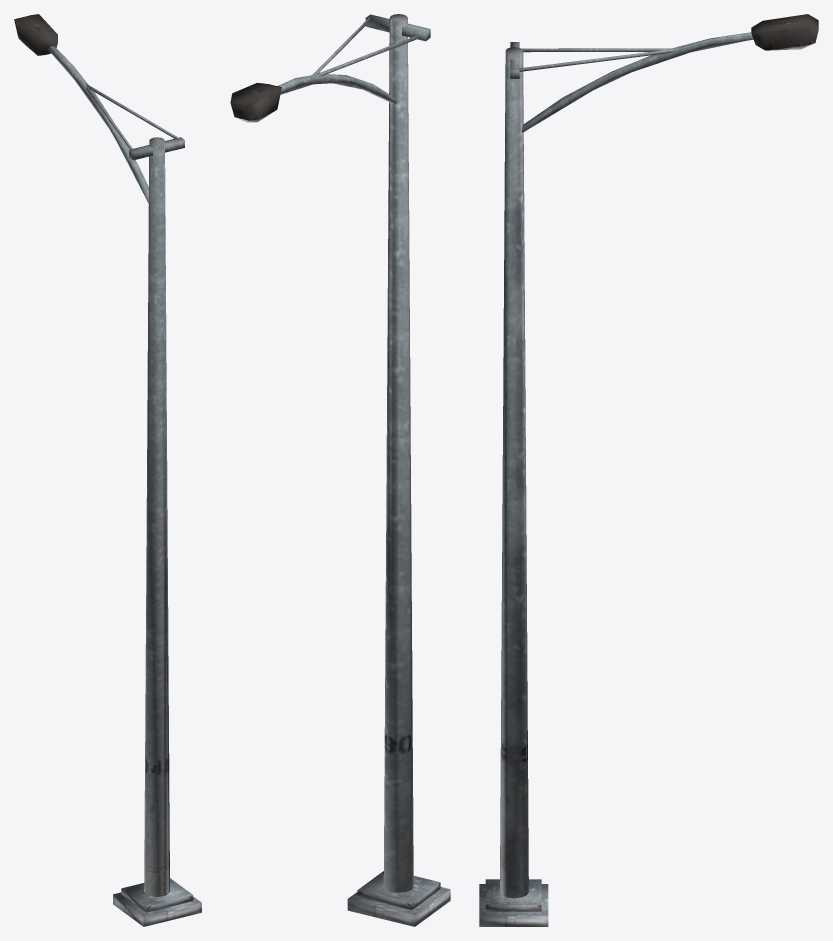
The model's file is streetLight1_1.fbx.
3 views of the same model, side by side, from view 1: azimuth 30°, elevation 25°; view 2: azimuth 150°, elevation 25°; view 3: azimuth 270°, elevation 25° (orthographic). The views are drawn at different scales.
Visible parts, largest first — view 1: streetlightA0; view 2: streetlightA0; view 3: streetlightA0.
Boxes of the visible parts, box(x1,y1,x2,y2) form: streetlightA0: box(14, 14, 201, 926); streetlightA0: box(230, 14, 450, 926); streetlightA0: box(479, 14, 818, 926).
Bounding box in the file's own units: 0.8481 × 11.09 × 3.83.
